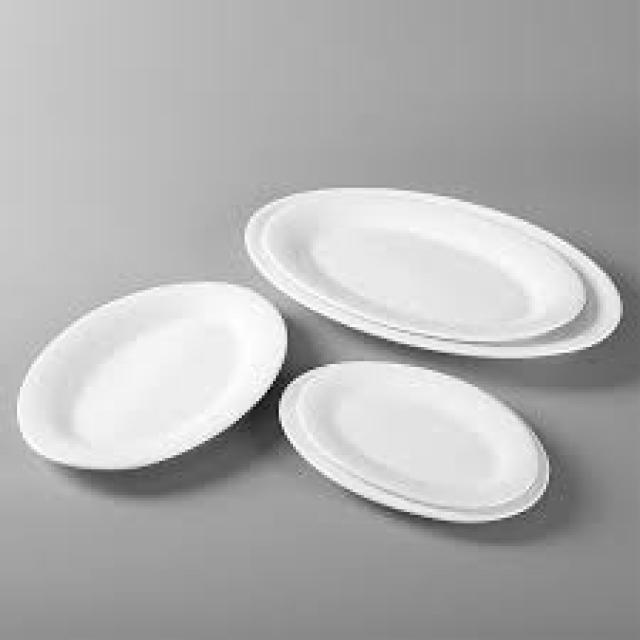dish: (11, 145, 640, 573)
